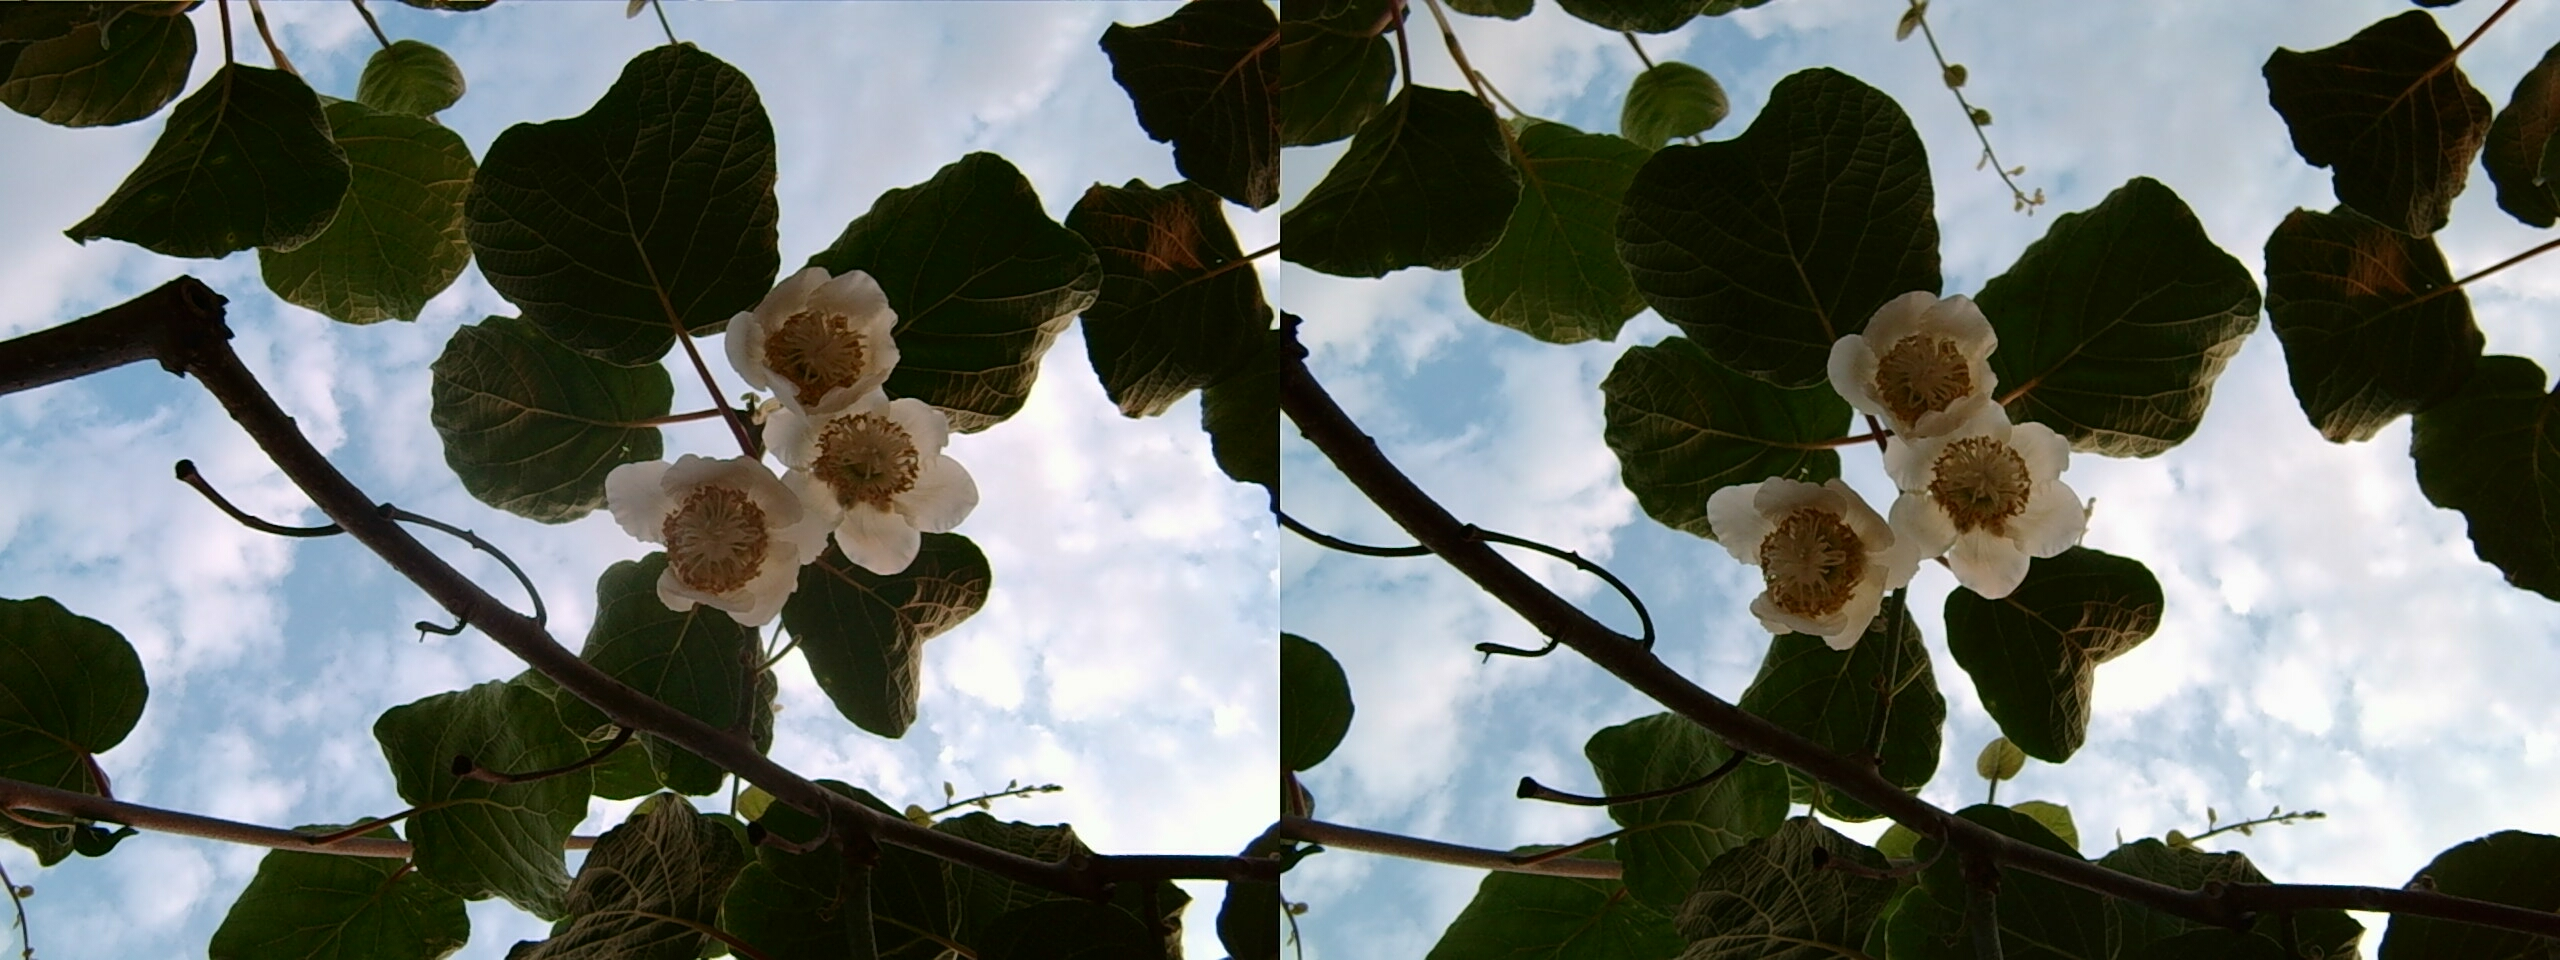flower: (1873, 393, 2085, 593), (762, 384, 976, 560), (607, 446, 821, 620), (1704, 460, 1909, 642), (1829, 282, 2002, 446), (725, 261, 900, 407)
